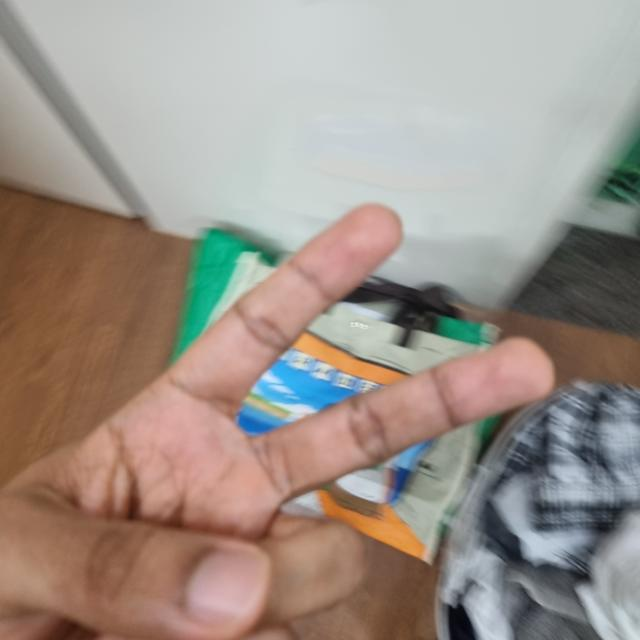Scissors: (3, 205, 555, 639)
